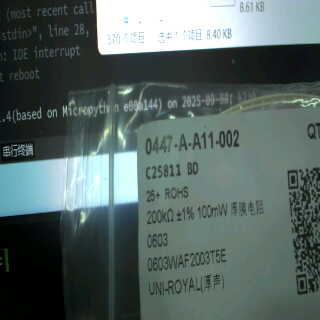200kR: (143, 205, 174, 227)
